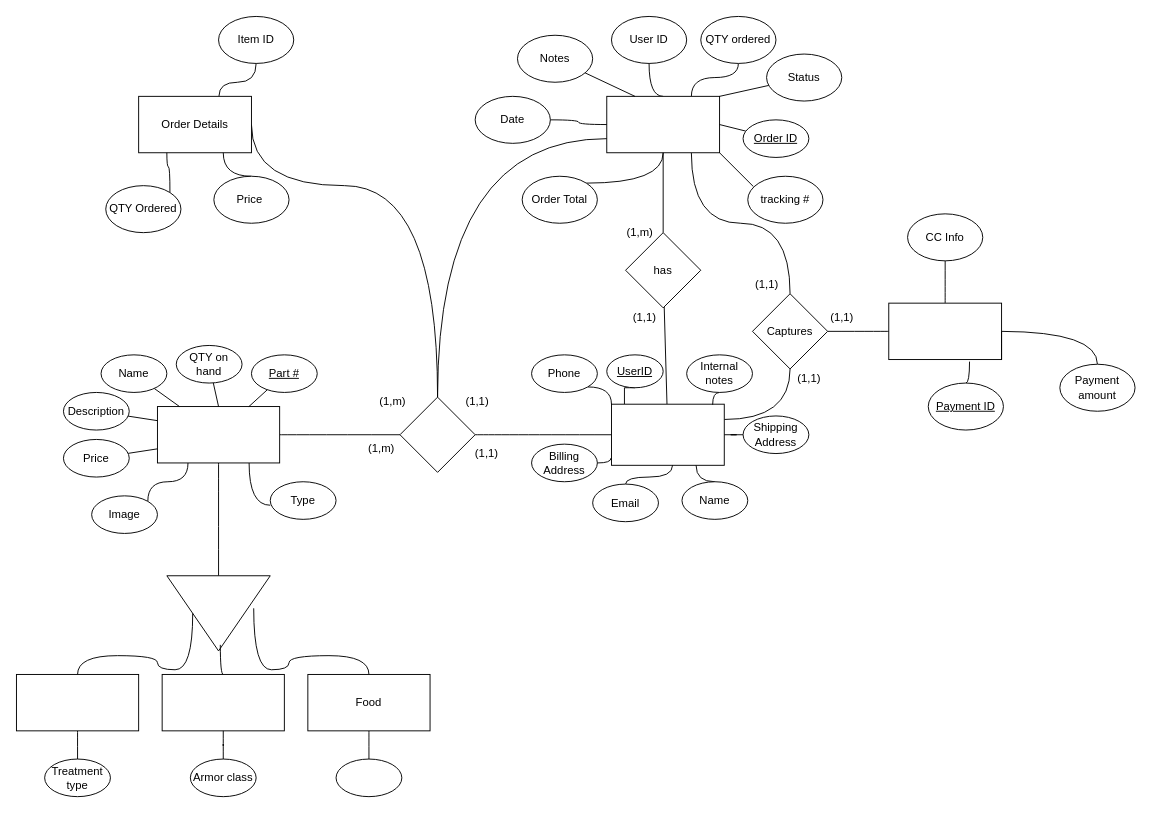
Some shapes in this 1152 by 813 pixel diagram are drawn without their labels. The centre of each missing label's shape, as x and y in pixels:
"Armor" belongs at (222,702).
"Food Type" belongs at (368,777).
"GENERALIZATION DISJOINT" belongs at (218,613).
"Generates" belongs at (437,434).
"Meds" belongs at (77,702).
"Orders" belongs at (663,124).
"Payment" belongs at (945,331).
"Product" belongs at (218,434).
"User" belongs at (667,434).
